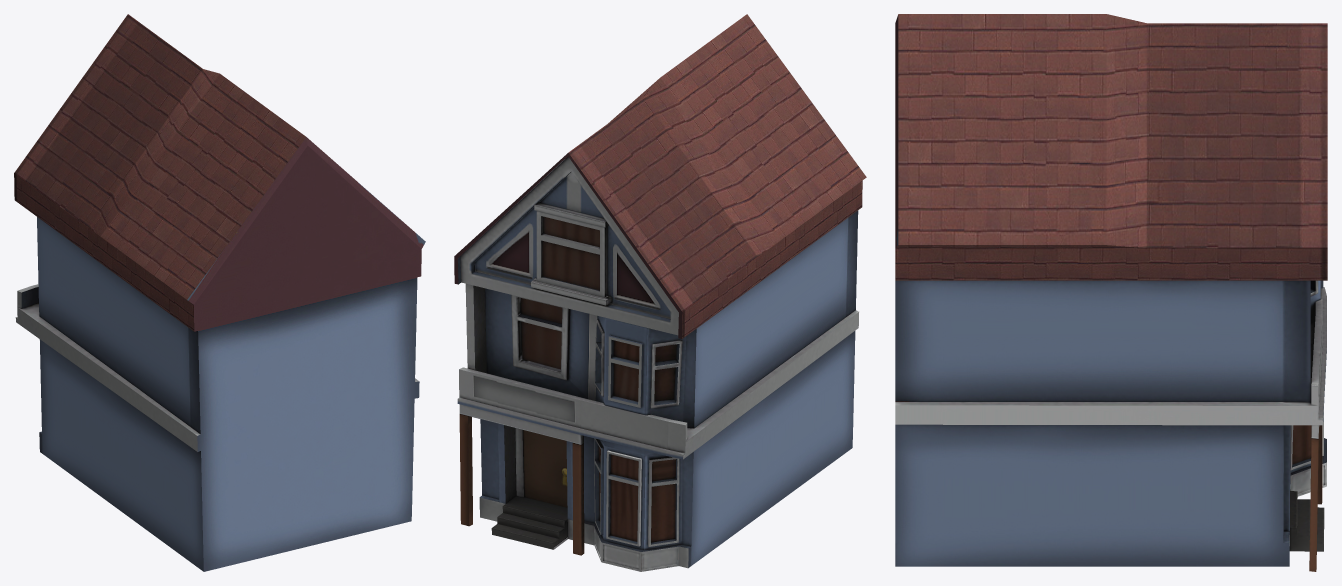
File: Building_BaseHouse.FBX
3 views of the same model, side by side, from view 1: azimuth 30°, elevation 25°; view 2: azimuth 150°, elevation 25°; view 3: azimuth 270°, elevation 25° (orthographic). The views are drawn at different scales.
Visible parts, largest first — view 1: Box010; view 2: Box010; view 3: Box010.
Boxes of the visible parts, x1=… form: Box010: x1=14, y1=14, x2=425, y2=571; Box010: x1=454, y1=14, x2=866, y2=571; Box010: x1=895, y1=14, x2=1327, y2=571.
Bounding box in the file's own units: 736 × 1205 × 959.
